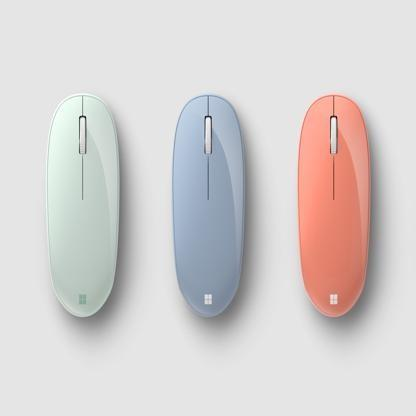not trash: (166, 95, 251, 321), (43, 95, 125, 319), (294, 95, 372, 319)
